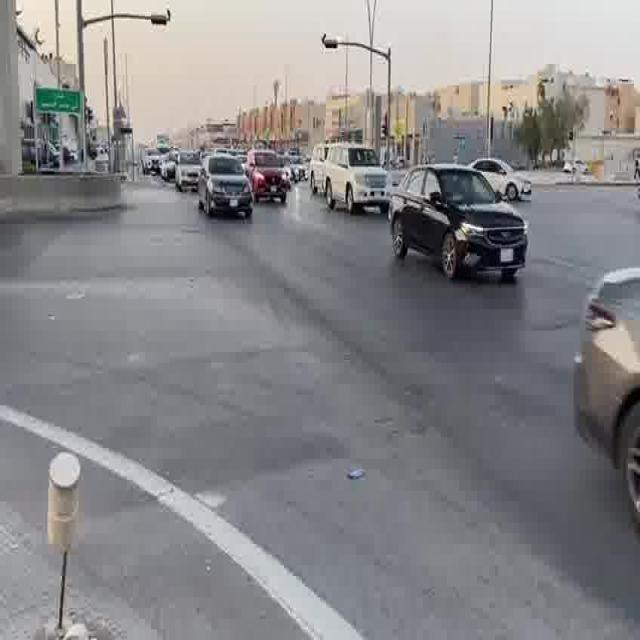bus: (388, 164, 530, 280), (472, 158, 534, 202), (23, 139, 60, 172), (308, 144, 331, 193), (586, 298, 619, 330), (161, 156, 177, 182), (290, 158, 307, 182)
car: (179, 209, 640, 640), (388, 164, 530, 280), (472, 158, 534, 202), (23, 139, 60, 172), (308, 144, 331, 193), (586, 298, 619, 330), (161, 156, 177, 182), (290, 158, 307, 182)
lanes: (179, 209, 640, 640), (226, 209, 639, 634)
lanes2: (226, 209, 639, 634), (260, 205, 640, 474)
lanes3: (260, 205, 640, 474), (286, 201, 640, 404)
lanes4: (286, 201, 640, 404), (327, 192, 640, 313)
lanes5: (327, 192, 640, 313)
motorbike: (318, 142, 392, 214), (199, 154, 254, 219), (247, 149, 293, 202), (586, 277, 629, 330), (175, 151, 203, 190), (151, 150, 178, 182), (144, 151, 165, 179)
truck: (318, 142, 392, 214), (199, 154, 254, 219), (247, 149, 293, 202), (586, 277, 629, 330), (175, 151, 203, 190), (151, 150, 178, 182), (144, 151, 165, 179)
